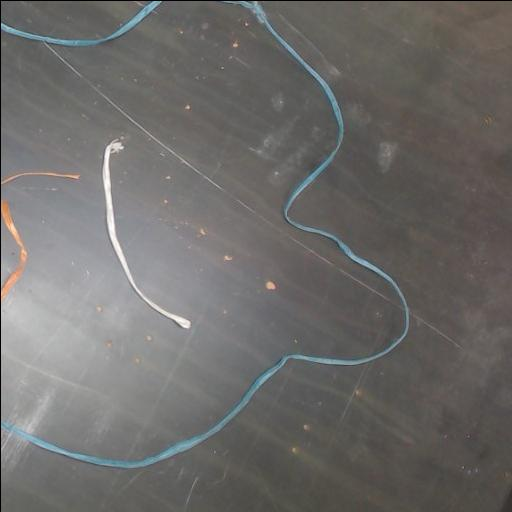conveyor belt: (1, 1, 512, 512), (1, 1, 403, 459), (1, 1, 145, 36), (1, 217, 19, 284)
thread: (1, 1, 409, 467), (102, 139, 191, 328), (1, 1, 161, 46), (1, 200, 27, 300)
